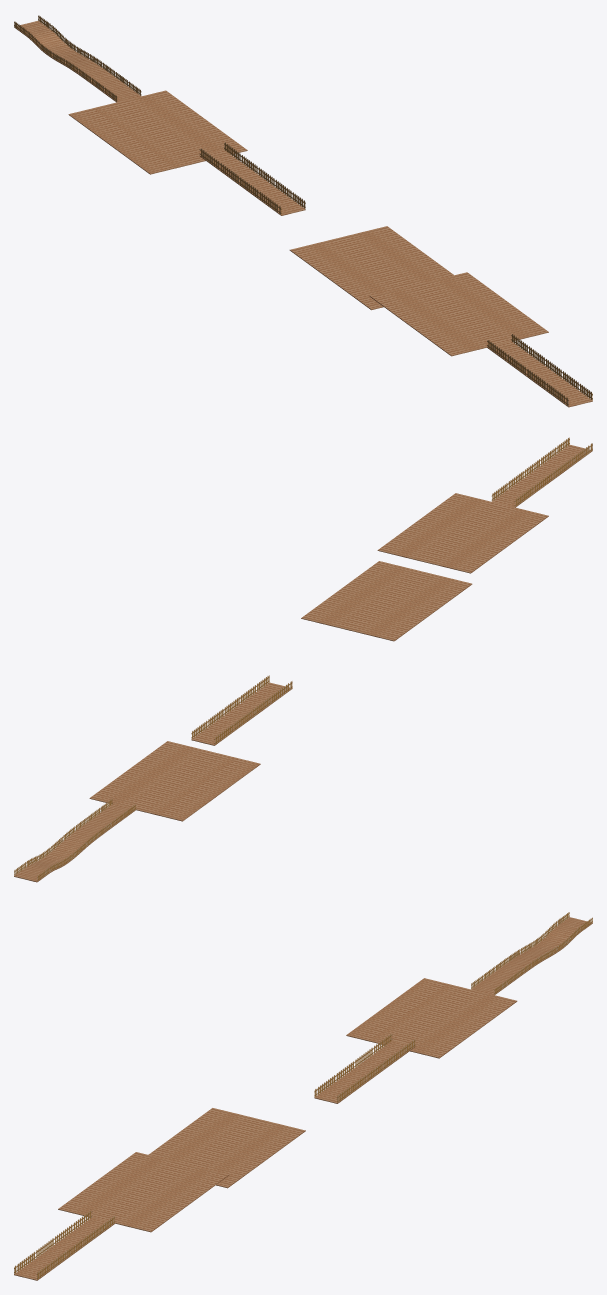
File: TRACK6.fbx
The picture shows the model from 3 angles, top to bottom: view 1: azimuth 30°, elevation 25°; view 2: azimuth 150°, elevation 25°; view 3: azimuth 330°, elevation 25°; orthographic projection. The views are drawn at different scales.
Parts seen in each view (by area): view 1: Cube.030, Cube.031, Cube.045, Cube.041, Cube.050, Cube.044, Cube.040, Cube.033, Cube.049, Cube.032, Cube.042, Cube.038 (+7 smaller); view 2: Cube.030, Cube.049, Cube.031, Cube.045, Cube.046, Cube.050, Cube.040, Cube.044, Cube.041, Cube.048, Cube.047, Cube.033 (+7 smaller); view 3: Cube.030, Cube.033, Cube.041, Cube.031, Cube.045, Cube.040, Cube.044, Cube.050, Cube.047, Cube.032, Cube.038, Cube.042 (+7 smaller).
Boxes of the visible parts, x1,y1,x2,y2 form: Cube.030: (14,21,140,102); Cube.031: (68,108,174,174); Cube.045: (369,290,475,356); Cube.041: (443,272,548,338); Cube.050: (93,102,198,168); Cube.044: (394,284,499,350); Cube.040: (419,278,524,343); Cube.033: (142,90,247,154); Cube.049: (289,244,383,310); Cube.032: (118,96,216,162); Cube.042: (200,149,305,215); Cube.038: (487,341,592,407); Cube.030: (14,804,135,882); Cube.049: (371,578,472,641); Cube.031: (159,758,260,821); Cube.045: (447,510,548,573); Cube.046: (324,566,425,629); Cube.050: (136,752,236,815); Cube.040: (401,498,501,561); Cube.044: (424,504,525,567); Cube.041: (377,493,478,556); Cube.048: (347,572,448,635); Cube.047: (301,561,401,624); Cube.033: (89,741,190,803); Cube.030: (471,917,592,995); Cube.033: (416,995,517,1058); Cube.041: (128,1169,228,1232); Cube.031: (346,978,446,1041); Cube.045: (58,1152,158,1215); Cube.040: (105,1163,205,1226); Cube.044: (81,1157,182,1220); Cube.050: (369,983,470,1045); Cube.047: (216,1125,305,1188); Cube.032: (399,989,493,1052); Cube.038: (14,1217,115,1280); Cube.042: (314,1040,415,1103).
Size of the model in its own units: 2036 by 1027 by 20554.
2 materials, 2 textured.
